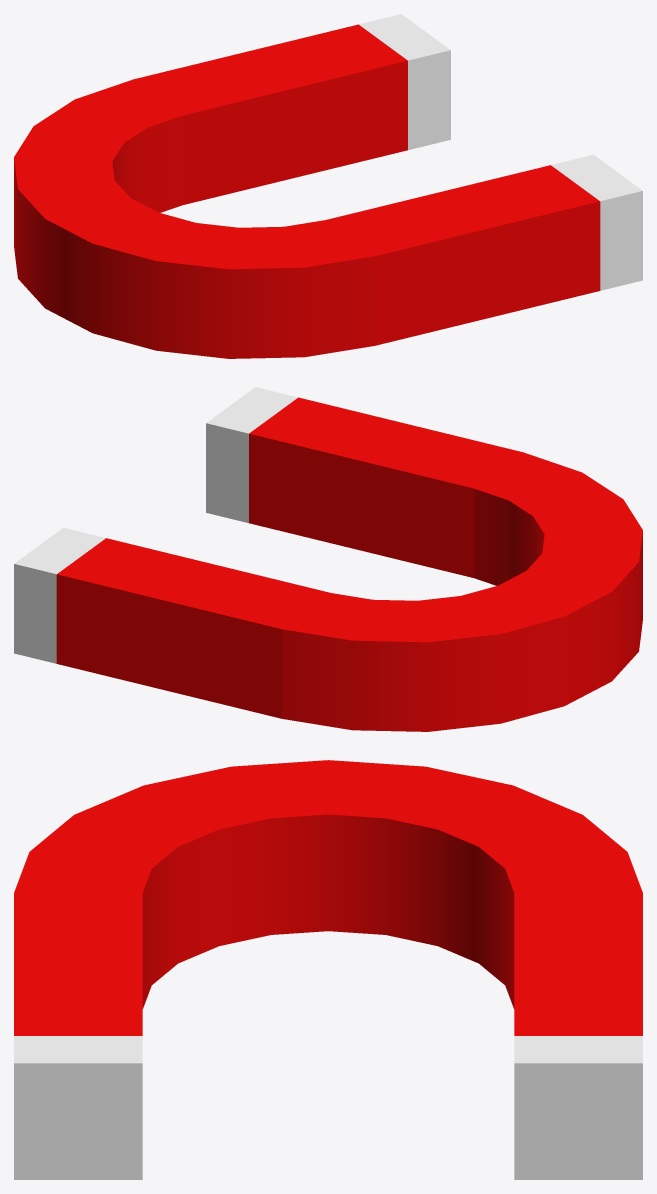
Rendered from Magnet.fbx.
The picture shows the model from 3 angles, top to bottom: view 1: azimuth 30°, elevation 25°; view 2: azimuth 150°, elevation 25°; view 3: azimuth 270°, elevation 25°; orthographic projection. The views are drawn at different scales.
Visible parts, largest first — view 1: Box001; view 2: Box001; view 3: Box001.
Boxes of the visible parts, x1=… form: Box001: x1=14, y1=14, x2=642, y2=358; Box001: x1=14, y1=387, x2=642, y2=731; Box001: x1=14, y1=760, x2=642, y2=1179.
Bounding box in the file's own units: 557 × 100 × 489.
